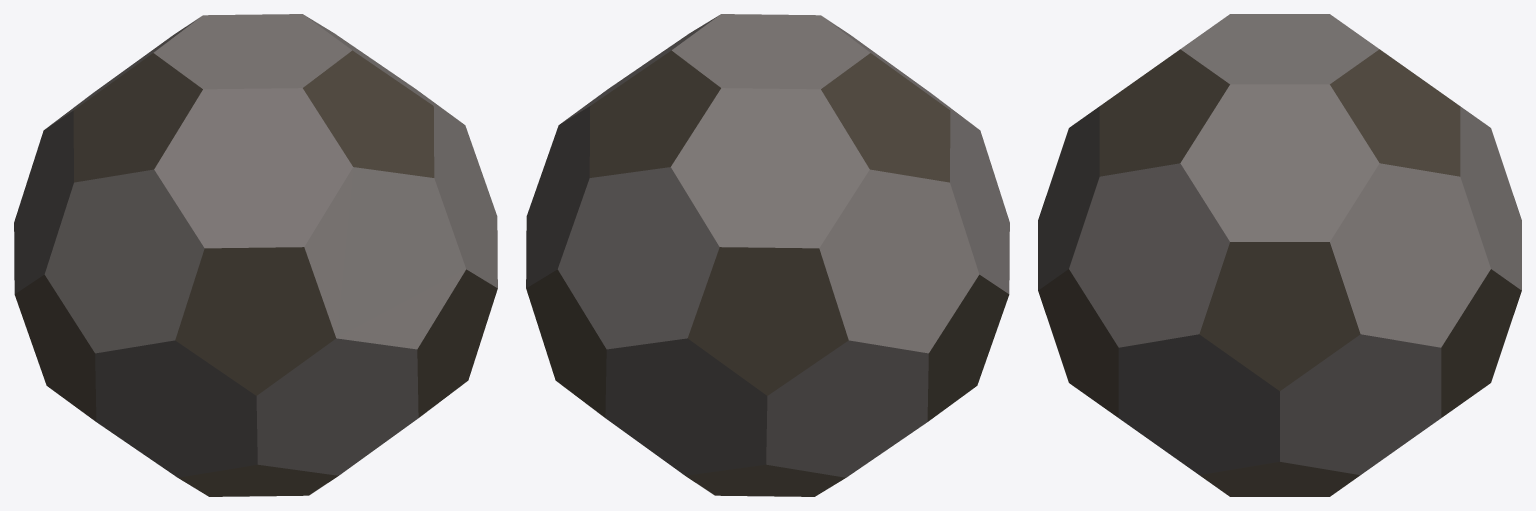
The model's file is SM_Toy_07.fbx.
3 views of the same model, side by side, from view 1: azimuth 30°, elevation 25°; view 2: azimuth 150°, elevation 25°; view 3: azimuth 270°, elevation 25° (orthographic).
Parts seen in each view (by area): view 1: SM_Toy_07; view 2: SM_Toy_07; view 3: SM_Toy_07.
Boxes of the visible parts, bbox=[...] form: SM_Toy_07: bbox=[14, 14, 497, 496]; SM_Toy_07: bbox=[526, 14, 1009, 496]; SM_Toy_07: bbox=[1038, 14, 1521, 496].
Size of the model in its own units: 23.81 by 22.15 by 23.57.
